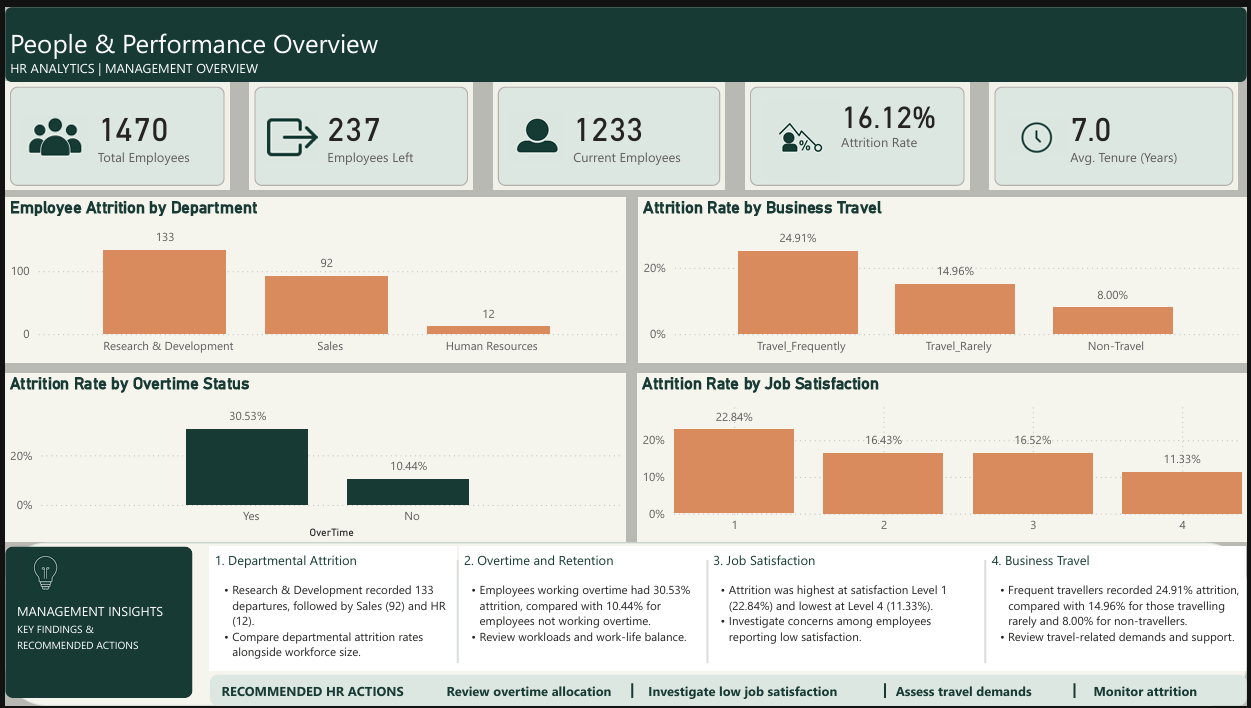

The page's visual inventory and layout, read from the dashboard file:
{"tool":"powerbi","page":{"name":"People & Performance Dashboard","canvas":[1280,720],"ordinal":0},"visuals":[{"type":"cardVisual","title":"TOTAL EMPLOYEES","fields":{"Data":["HR-Employee-Attriti.Total Employees"]},"box":[0,76.8,230.5,111.9],"z":0},{"type":"cardVisual","title":"EMPLOYEES LEFT","fields":{"Data":["HR-Employee-Attriti.Employees Left"]},"box":[252.2,76.8,229.5,111.9],"z":1000},{"type":"cardVisual","title":"CURRENT EMPLOYEES","fields":{"Data":["HR-Employee-Attriti.Current Employees"]},"box":[503.3,76.8,238.3,111.9],"z":2000},{"type":"cardVisual","title":"ATTRITION RATE","fields":{"Data":["HR-Employee-Attriti.Attrition Rate"]},"box":[763.3,76.8,230.5,111.9],"z":3000},{"type":"cardVisual","title":"AVERAGE TENURE","fields":{"Data":["HR-Employee-Attriti.Average Tenure"]},"box":[1015.4,76.8,255.8,111.9],"z":4000},{"type":"clusteredColumnChart","title":"Employee Attrition by Department","fields":{"Category":["HR-Employee-Attriti.Department"],"Y":["HR-Employee-Attriti.Employees Left"]},"box":[0,195.5,640,171.2],"z":5000},{"type":"clusteredColumnChart","title":"Attrition Rate by Business Travel","fields":{"Category":["HR-Employee-Attriti.BusinessTravel"],"Y":["HR-Employee-Attriti.Attrition Rate"]},"box":[652.6,195.5,627.4,171.2],"z":6000},{"type":"clusteredColumnChart","title":"Attrition Rate by Overtime Status","fields":{"Category":["HR-Employee-Attriti.OverTime"],"Y":["HR-Employee-Attriti.Attrition Rate"]},"box":[0,378.4,640,174.1],"z":7000},{"type":"clusteredColumnChart","title":"Attrition Rate by Job Satisfaction","fields":{"Category":["HR-Employee-Attriti.JobSatisfaction"],"Y":["HR-Employee-Attriti.Attrition Rate"]},"box":[651.7,378.4,628.3,174.1],"z":8000},{"type":"shape","box":[0,552.5,1280,167.3],"z":9000},{"type":"shape","box":[0,556,193,156],"z":10000},{"type":"textbox","box":[7,609,166,88],"z":11000},{"type":"textbox","box":[211.1,556.4,254.8,30.2],"z":12000},{"type":"textbox","box":[467.8,556.4,256.8,30.2],"z":13000},{"type":"textbox","box":[1011.6,556.4,268.4,30.2],"z":14000},{"type":"textbox","box":[724.6,556.4,286.9,30.2],"z":15000},{"type":"textbox","box":[211.1,586.5,254.8,97.3],"z":16000},{"type":"textbox","box":[465.9,586.5,256.8,97.3],"z":17000},{"type":"textbox","box":[722.7,586.5,288.9,97.3],"z":18000},{"type":"textbox","box":[1010.6,586.5,269.4,97.3],"z":19000},{"type":"shape","box":[460.1,570,12.6,106],"z":20000},{"type":"shape","box":[717.8,570,12.6,106],"z":21000},{"type":"shape","box":[1003.8,570,13.6,106],"z":22000},{"type":"shape","box":[211.1,687.7,1068.9,32.1],"z":23000},{"type":"textbox","box":[217.9,690.6,225.7,29.2],"z":24000},{"type":"textbox","box":[450.3,690.6,189.7,29.2],"z":25000},{"type":"textbox","box":[657.5,690.6,235.4,29.2],"z":26000},{"type":"textbox","box":[913.3,690.6,165.3,29.2],"z":27000},{"type":"textbox","box":[1116.6,690.6,154.7,29.2],"z":28000},{"type":"shape","box":[1096.2,697.4,12.6,14.6],"z":29000},{"type":"shape","box":[900.7,697.4,12.6,14.6],"z":30000},{"type":"shape","box":[640,697.4,12.6,14.6],"z":31000},{"type":"shape","box":[0,0,1280,76.8],"z":32000},{"type":"textbox","box":[0,12.6,460.1,64.2],"z":33000},{"type":"image","box":[16,558,51,51],"z":34000}]}

Visuals, with their boxes in screenshot pixels (x1, y1, x2, y2), scaled from the page's 1280x720 canvas onto the 1251x708 screenshot:
"TOTAL EMPLOYEES" cardVisual: <box>0,76,225,186</box>
"EMPLOYEES LEFT" cardVisual: <box>246,76,471,186</box>
"CURRENT EMPLOYEES" cardVisual: <box>492,76,725,186</box>
"ATTRITION RATE" cardVisual: <box>746,76,971,186</box>
"AVERAGE TENURE" cardVisual: <box>992,76,1242,186</box>
"Employee Attrition by Department" clusteredColumnChart: <box>0,192,626,361</box>
"Attrition Rate by Business Travel" clusteredColumnChart: <box>638,192,1250,361</box>
"Attrition Rate by Overtime Status" clusteredColumnChart: <box>0,372,626,543</box>
"Attrition Rate by Job Satisfaction" clusteredColumnChart: <box>637,372,1250,543</box>
shape: <box>0,543,1250,707</box>
shape: <box>0,547,189,700</box>
textbox: <box>7,599,169,685</box>
textbox: <box>206,547,455,577</box>
textbox: <box>457,547,708,577</box>
textbox: <box>989,547,1250,577</box>
textbox: <box>708,547,989,577</box>
textbox: <box>206,577,455,672</box>
textbox: <box>455,577,706,672</box>
textbox: <box>706,577,989,672</box>
textbox: <box>988,577,1250,672</box>
shape: <box>450,560,462,665</box>
shape: <box>702,560,714,665</box>
shape: <box>981,560,994,665</box>
shape: <box>206,676,1250,707</box>
textbox: <box>213,679,434,707</box>
textbox: <box>440,679,626,707</box>
textbox: <box>643,679,873,707</box>
textbox: <box>893,679,1054,707</box>
textbox: <box>1091,679,1242,707</box>
shape: <box>1071,686,1084,700</box>
shape: <box>880,686,893,700</box>
shape: <box>626,686,638,700</box>
shape: <box>0,0,1250,76</box>
textbox: <box>0,12,450,76</box>
image: <box>16,549,65,599</box>
